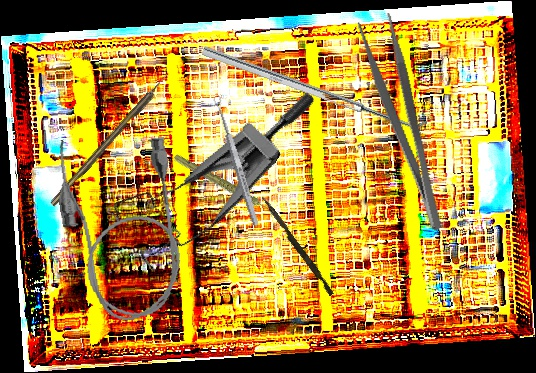Cannula: (49, 123, 192, 329)
Dressing Forceps: (355, 11, 448, 238)
Handpiece: (171, 136, 276, 236)
Hook Surgical: (48, 72, 172, 208)
Pusher: (257, 195, 337, 297)
Spatula Surgical: (201, 37, 429, 136)
Speculum: (96, 37, 317, 295)
Surgical Spoon: (212, 95, 261, 227)
